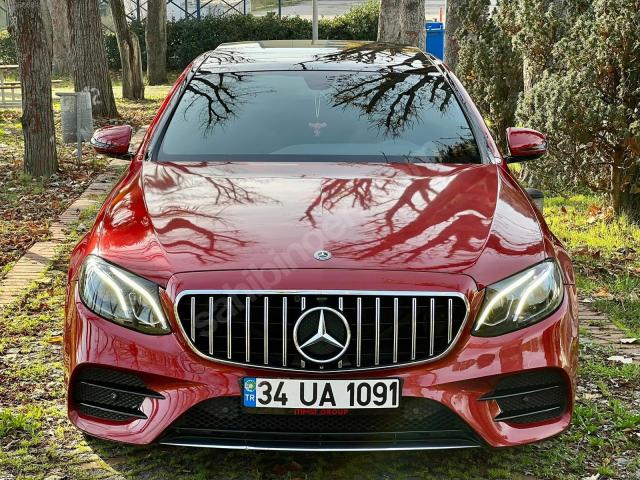plaka: (246, 378, 399, 409)
